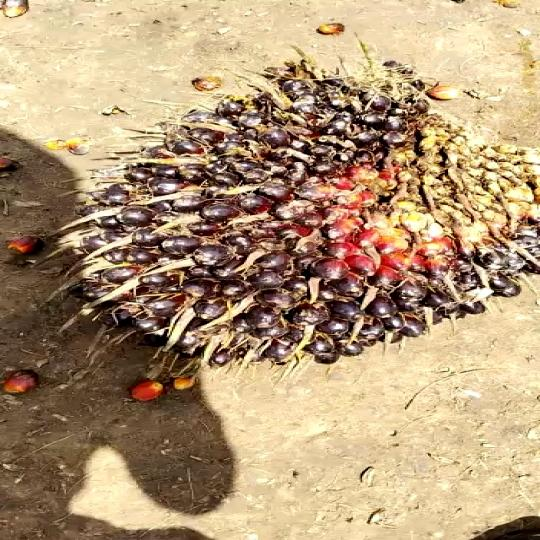mentah: (81, 42, 540, 380)
